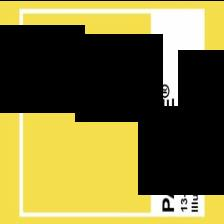yellow: (20, 7, 205, 215)
